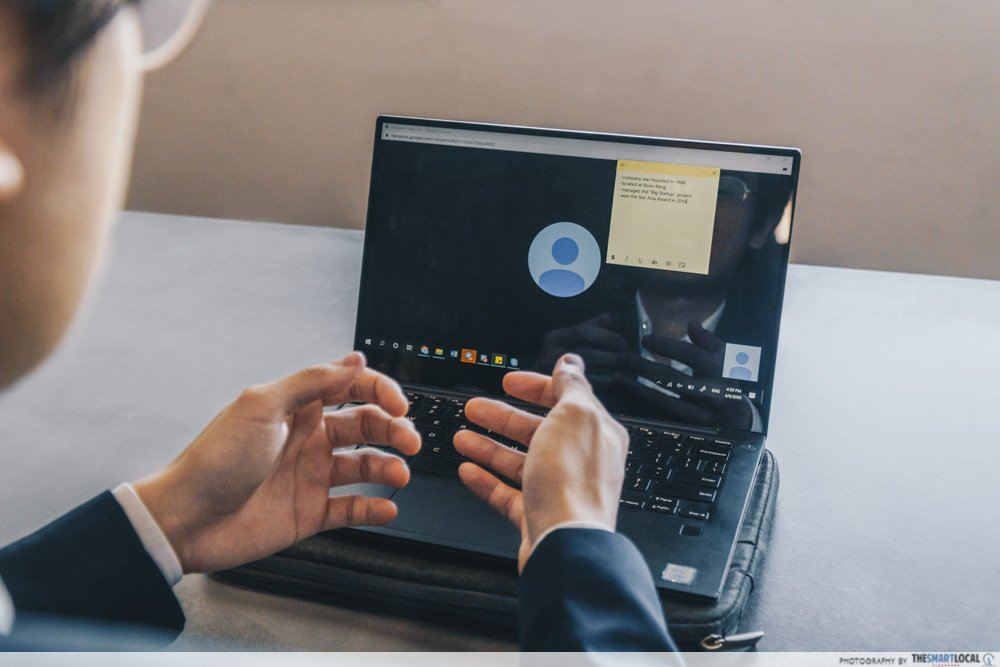Note: (603, 158, 719, 277)
